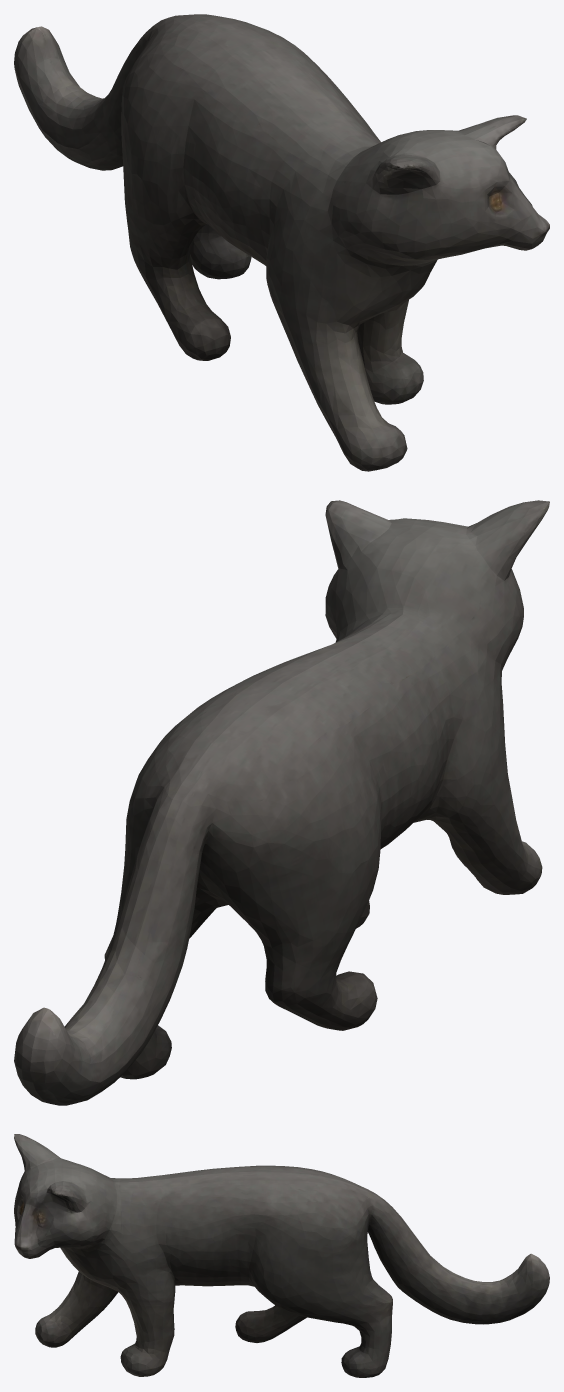
3 views of the same model, one above another, from view 1: azimuth 30°, elevation 25°; view 2: azimuth 150°, elevation 25°; view 3: azimuth 270°, elevation 25° (orthographic). The views are drawn at different scales.
Parts seen in each view (by area): view 1: geometry_0; view 2: geometry_0; view 3: geometry_0.
Part boxes in pixels (<box>): geometry_0: <box>14,14,549,471</box>; geometry_0: <box>14,500,549,1105</box>; geometry_0: <box>14,1134,549,1377</box>.
Bounding box in the file's own units: 0.2882 × 0.433 × 0.9984.
Materials: 1 (1 with a texture image).
